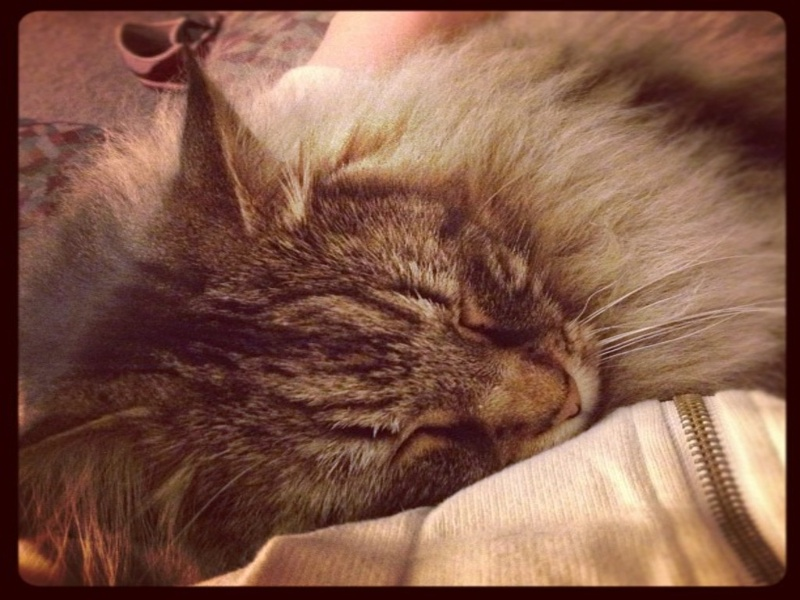cat: (35, 38, 736, 568)
